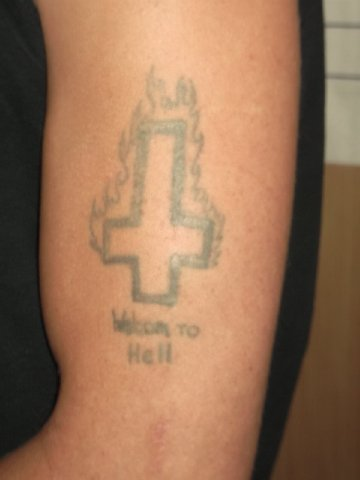tatu9_krest: (89, 111, 235, 307)
